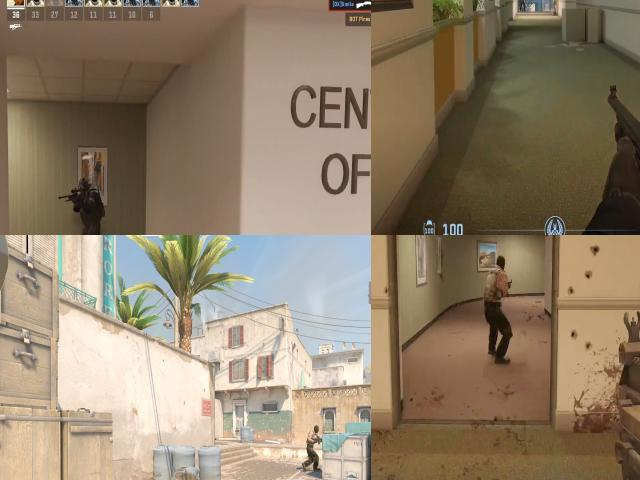CT: (75, 172, 103, 234), (518, 0, 526, 11)
CT-Head: (77, 176, 91, 200)
T: (482, 256, 511, 307), (303, 425, 322, 470)
T-Head: (493, 253, 508, 273), (314, 425, 319, 433)
